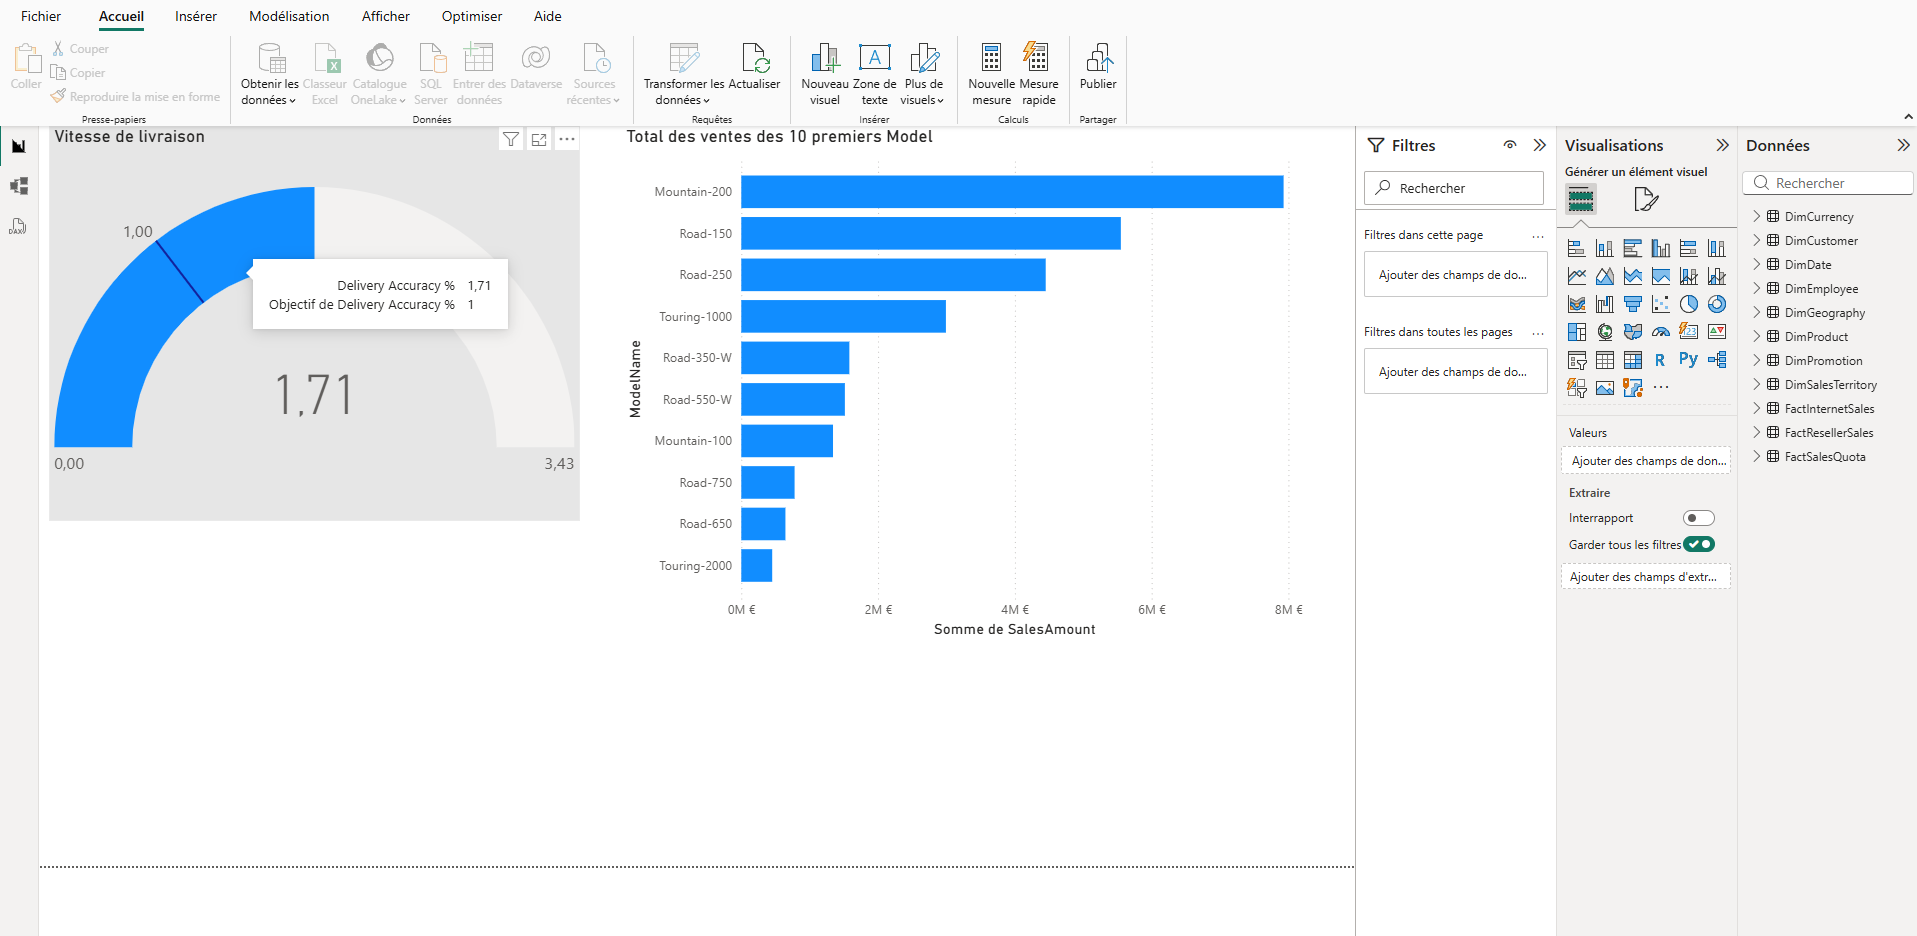

Layout of this report page (visuals, bound fields, positions):
{"tool":"powerbi","page":{"name":"Page 4","canvas":[1280,720],"ordinal":3},"visuals":[{"type":"gauge","title":"Vitesse de livraison","fields":{"Y":["FactInternetSales.Delivery Accuracy %"],"TargetValue":["FactInternetSales._Delivery Accuracy % Goal"]},"box":[9.5,0,516.4,383.7],"z":0},{"type":"barChart","title":"Total des ventes des 10 premiers Model","fields":{"Category":["DimProduct.ModelName"],"Y":["FactInternetSales.Somme de SalesAmount"]},"box":[566,0,668.2,502.1],"z":1000}]}

Visuals, with their boxes on the page's 1280x720 design canvas (x1, y1, x2, y2). These are canvas units, not pixel positions in the 1917x936 screenshot, which may show the page scaled, cropped or inside an application window:
"Vitesse de livraison" gauge: [10,0,526,384]
"Total des ventes des 10 premiers Model" barChart: [566,0,1234,502]
